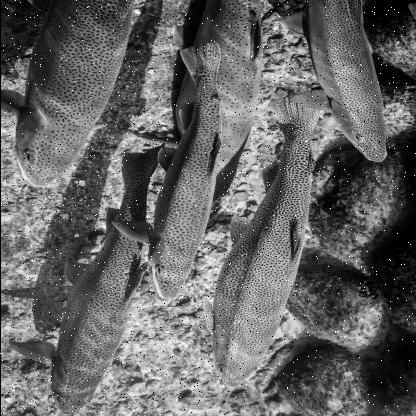fish: (16, 140, 167, 412), (214, 93, 332, 385), (113, 40, 230, 303), (164, 0, 266, 206)
